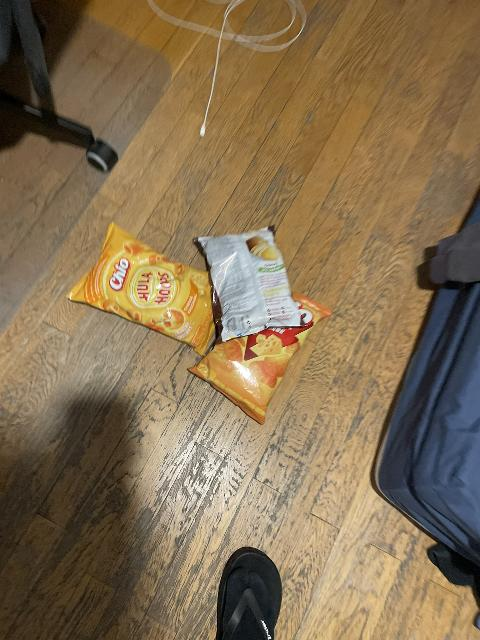Chio Cascaval 125g: (188, 295, 330, 422)
Chio Hula Hoops Cheese 70g: (68, 224, 218, 353)
Lays Beef Grilled Ribs 125g: (195, 227, 309, 343)
